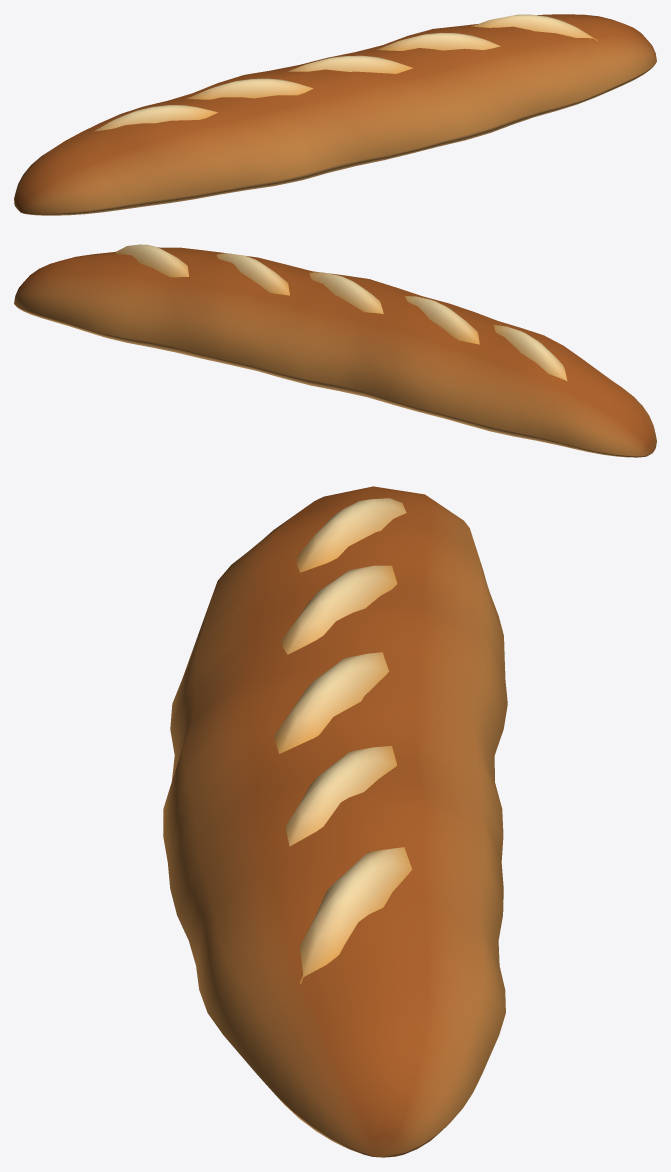
Rendered from baguette.glb.
3 views of the same model, one above another, from view 1: azimuth 30°, elevation 25°; view 2: azimuth 150°, elevation 25°; view 3: azimuth 270°, elevation 25° (orthographic). The views are drawn at different scales.
Visible parts, largest first — view 1: baguette-crust, baguette-crumb; view 2: baguette-crust, baguette-crumb; view 3: baguette-crust, baguette-crumb.
Boxes of the visible parts, x1,y1,x2,y2 form: baguette-crust: (14, 14, 656, 215); baguette-crumb: (94, 14, 597, 131); baguette-crust: (14, 247, 656, 457); baguette-crumb: (115, 244, 567, 380); baguette-crust: (163, 486, 507, 1157); baguette-crumb: (274, 498, 412, 984).
Bounding box in the file's own units: 1 × 0.132 × 0.2359.
